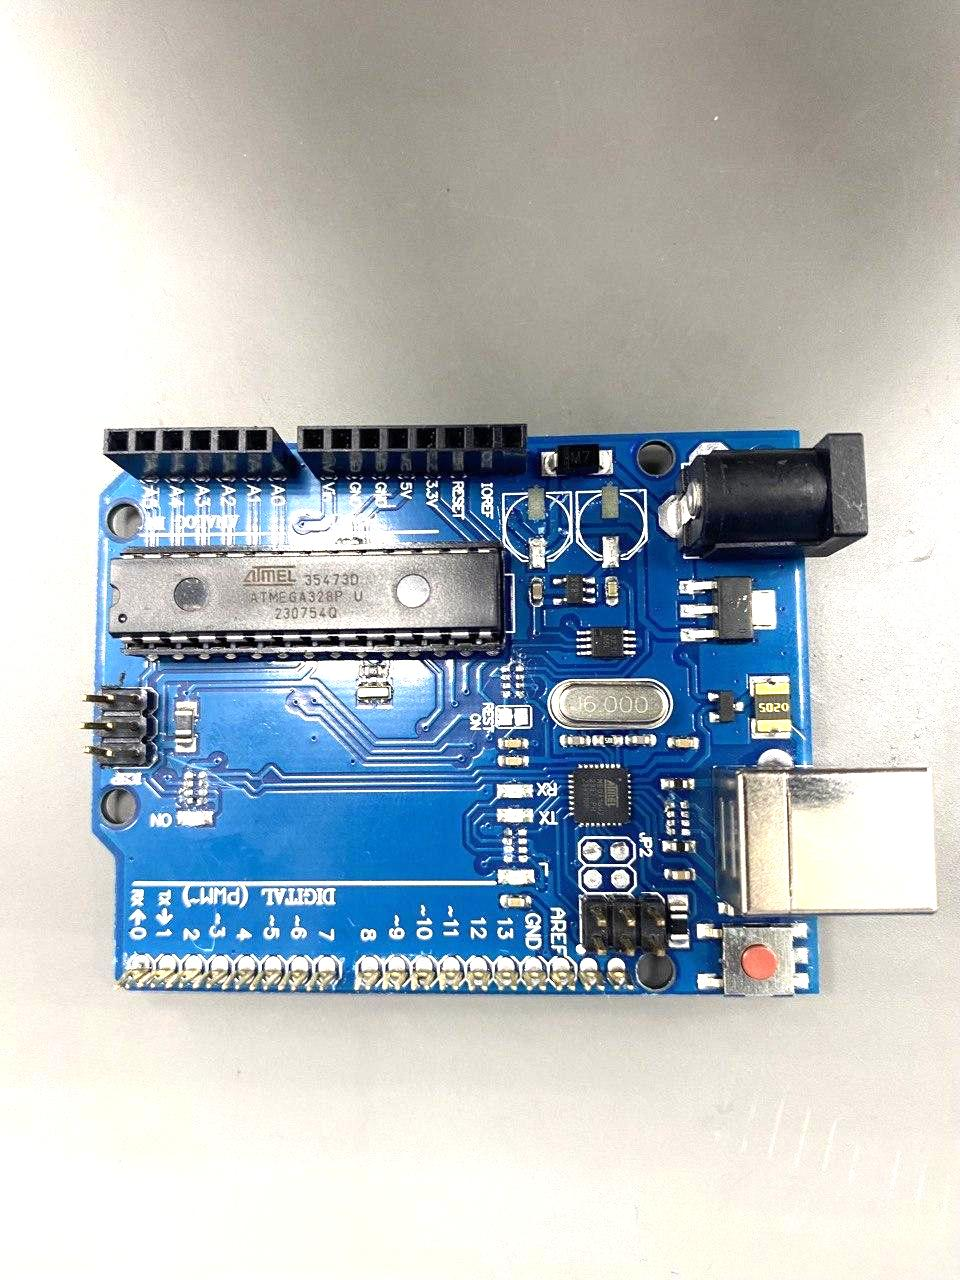ATmega328 chip: (108, 541, 504, 658)
Arduino board: (80, 422, 938, 999)
USB: (712, 764, 936, 916)
pins: (295, 424, 529, 479), (102, 425, 295, 481)
